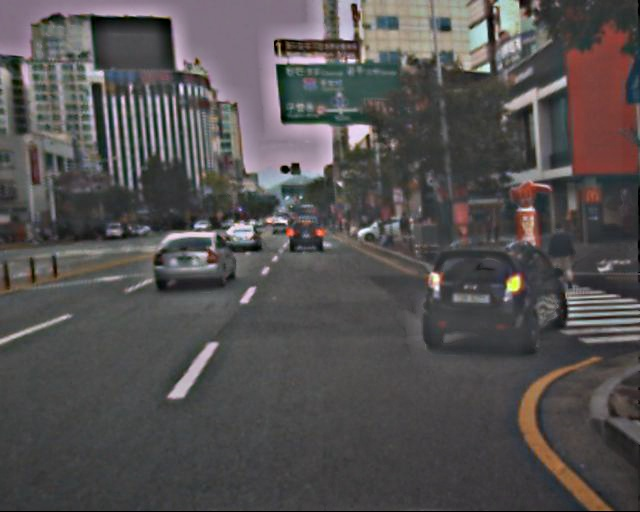person: (547, 223, 575, 292), (484, 213, 501, 247), (397, 212, 410, 244)
